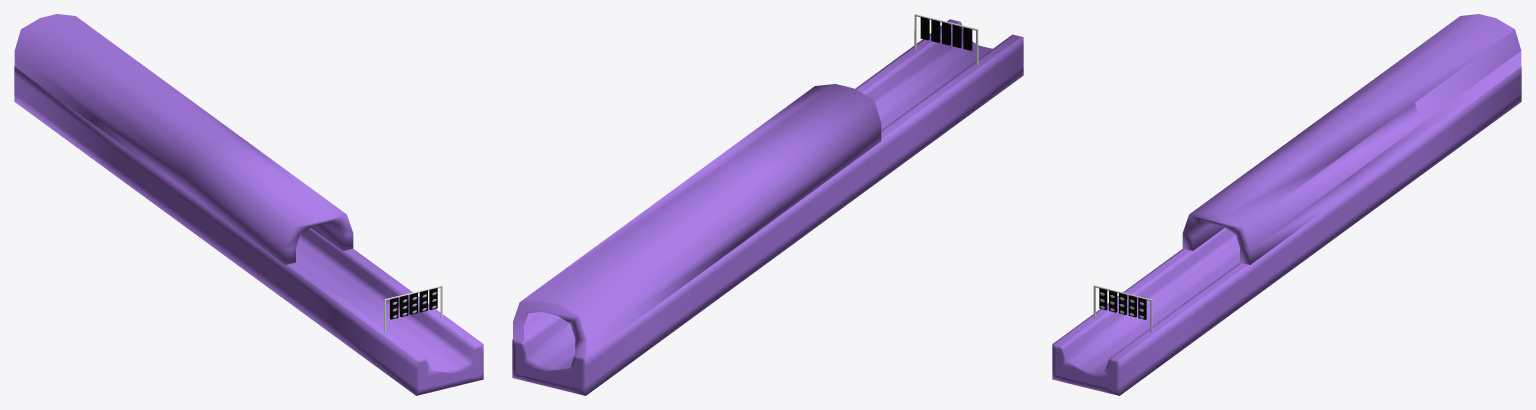
File: pull.glb
3 renders of one model, left to right at view 1: azimuth 30°, elevation 25°; view 2: azimuth 150°, elevation 25°; view 3: azimuth 330°, elevation 25°, orthographic. The views are drawn at different scales.
Visible parts, largest first — view 1: straight; view 2: straight; view 3: straight.
Boxes of the visible parts, x1,y1,x2,y2 form: straight: (14,14,483,395); straight: (512,19,1023,395); straight: (1052,14,1521,395).
Size of the model in its own units: 1 by 1.1 by 10.32.
Materials: 6 (2 with a texture image).
